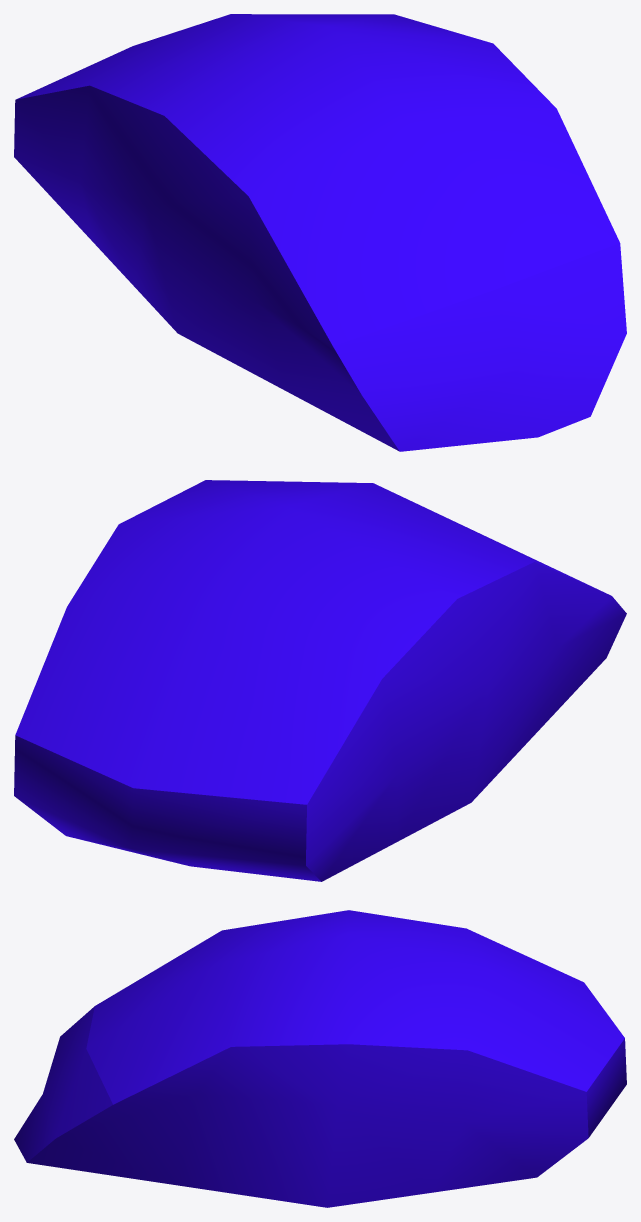
Rendered from office_pack_allInOneComputer_mouse_1_meshCollider.fbx.
The picture shows the model from 3 angles, top to bottom: view 1: azimuth 30°, elevation 25°; view 2: azimuth 150°, elevation 25°; view 3: azimuth 270°, elevation 25°; orthographic projection. The views are drawn at different scales.
Visible parts, largest first — view 1: office_pack_allInOneComputer_mouse_1_meshCollider; view 2: office_pack_allInOneComputer_mouse_1_meshCollider; view 3: office_pack_allInOneComputer_mouse_1_meshCollider.
Boxes of the visible parts, <box> form: office_pack_allInOneComputer_mouse_1_meshCollider: <box>14,14,626,451</box>; office_pack_allInOneComputer_mouse_1_meshCollider: <box>14,480,626,881</box>; office_pack_allInOneComputer_mouse_1_meshCollider: <box>14,910,626,1207</box>.
Bounding box in the file's own units: 5.91 × 3.98 × 10.8.
